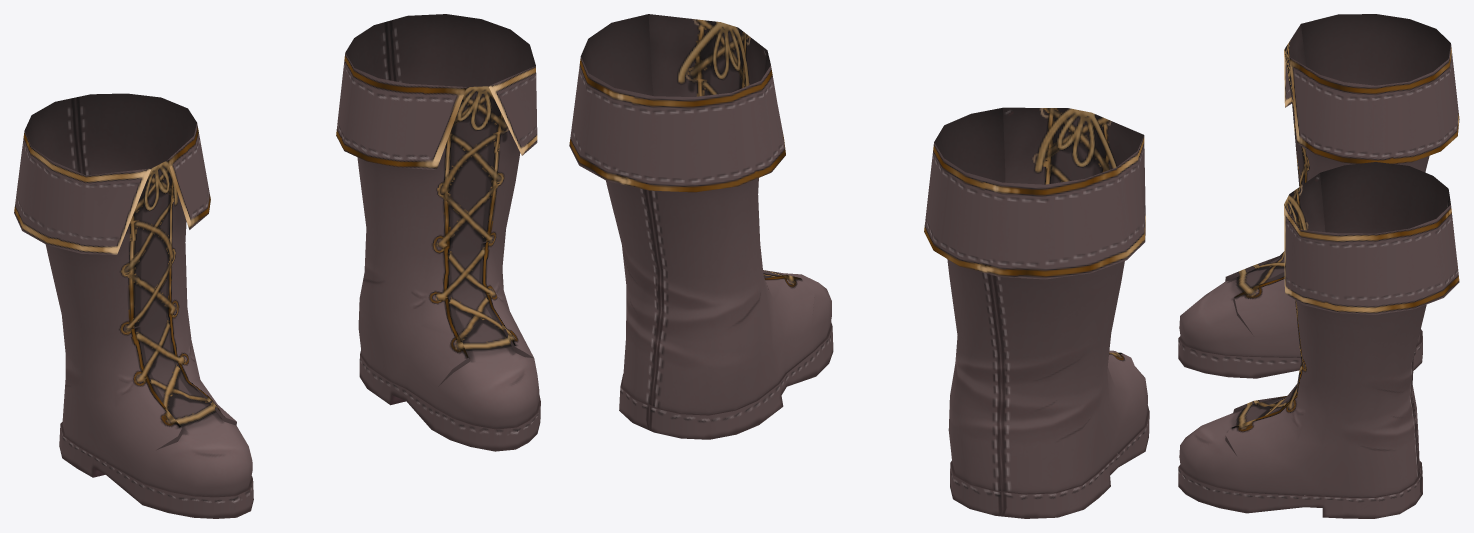
File: bottes.glb
The picture shows the model from 3 angles, left to right: view 1: azimuth 30°, elevation 25°; view 2: azimuth 150°, elevation 25°; view 3: azimuth 270°, elevation 25°; orthographic projection. The views are drawn at different scales.
Visible parts, largest first — view 1: bottes; view 2: bottes; view 3: bottes.
Boxes of the visible parts, x1,y1,x2,y2 form: bottes: [14, 14, 540, 518]; bottes: [569, 14, 1149, 518]; bottes: [1178, 14, 1459, 518].
Bounding box in the file's own units: 0.4472 × 0.2733 × 0.2327.
1 material, 1 textured.
